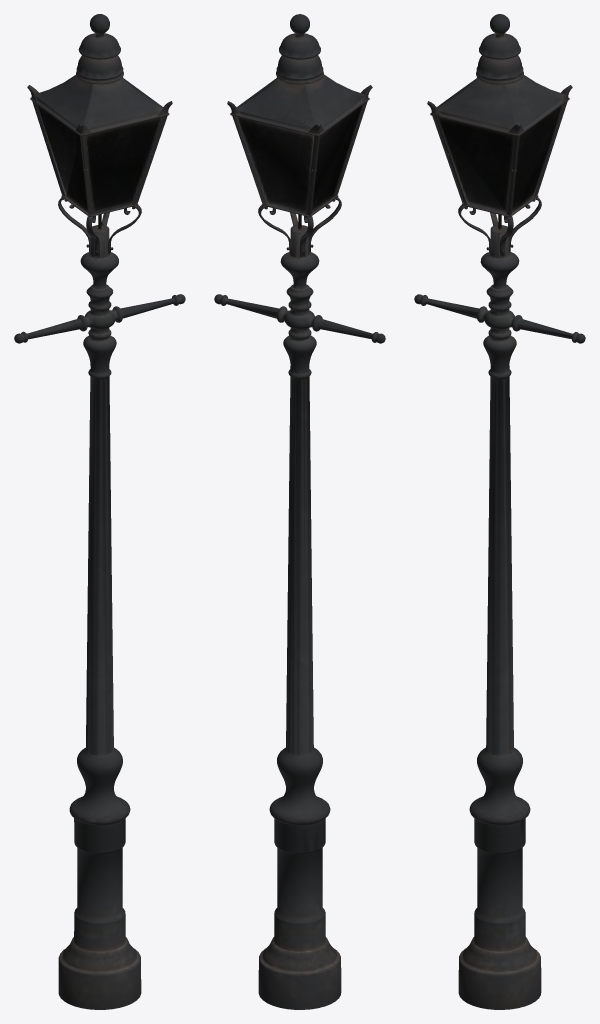
File: street_lamp_01.gltf
3 views of the same model, side by side, from view 1: azimuth 30°, elevation 25°; view 2: azimuth 150°, elevation 25°; view 3: azimuth 330°, elevation 25° (orthographic).
Parts seen in each view (by area): view 1: street_lamp_01; view 2: street_lamp_01; view 3: street_lamp_01.
Part boxes in pixels (bbox=[...]): street_lamp_01: bbox=[14, 14, 185, 1009]; street_lamp_01: bbox=[214, 14, 385, 1009]; street_lamp_01: bbox=[414, 14, 585, 1009].
Size of the model in its own units: 0.7035 by 3.87 by 0.386.
Materials: 3 (3 with a texture image).
